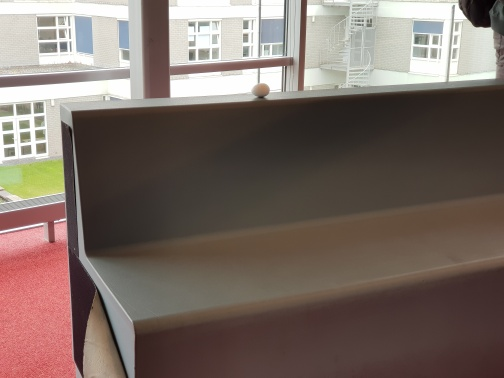egg: (250, 82, 271, 97)
